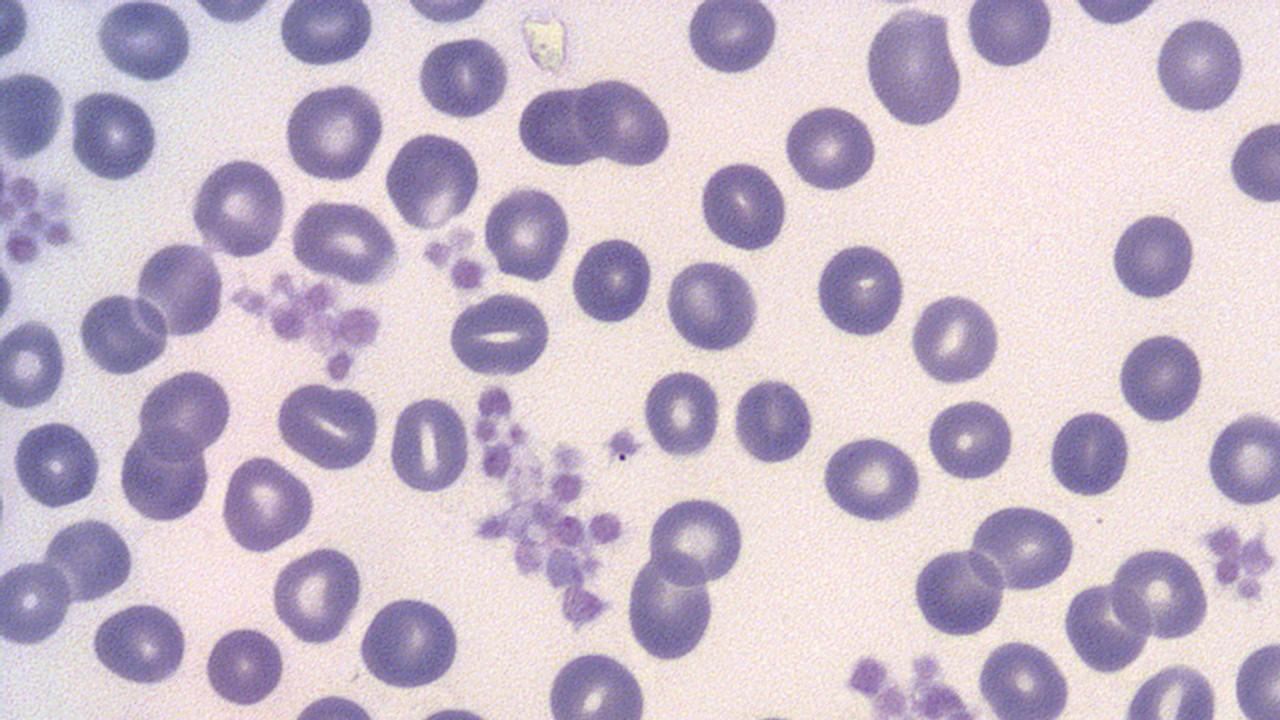Platelets: (1239, 532, 1277, 580), (603, 426, 643, 466), (1200, 520, 1242, 558), (475, 382, 512, 420), (472, 510, 509, 544), (1235, 576, 1267, 604)
RBC: (860, 3, 966, 131), (280, 78, 386, 186), (355, 590, 467, 692), (623, 548, 720, 664), (186, 154, 288, 259), (382, 128, 482, 233), (967, 500, 1079, 593), (271, 380, 383, 473), (1150, 11, 1248, 116), (644, 492, 751, 588), (217, 452, 317, 554), (661, 256, 763, 355), (812, 237, 910, 340), (1106, 546, 1210, 642), (290, 196, 402, 285), (443, 290, 555, 379), (269, 544, 365, 647), (818, 430, 924, 523), (574, 72, 675, 169), (132, 238, 227, 341), (113, 428, 214, 524), (134, 366, 238, 459), (40, 512, 142, 606), (1059, 576, 1153, 678), (480, 181, 571, 286), (909, 544, 1008, 640), (1112, 327, 1208, 425), (87, 597, 192, 686), (907, 290, 1004, 386), (694, 156, 790, 253), (780, 100, 880, 193), (412, 32, 513, 124), (67, 88, 162, 185), (1106, 205, 1198, 304), (1044, 403, 1136, 500), (8, 418, 105, 508), (386, 392, 471, 494), (728, 371, 818, 466), (92, 2, 195, 85), (75, 288, 172, 376), (568, 232, 656, 328), (923, 394, 1017, 483), (976, 634, 1074, 717), (516, 82, 604, 172), (200, 620, 287, 711), (641, 364, 722, 460), (538, 648, 652, 716), (682, 0, 782, 77), (1204, 407, 1278, 510), (275, 0, 378, 71), (1, 62, 68, 165), (0, 554, 73, 648), (963, 1, 1056, 72), (1, 315, 68, 412), (1120, 658, 1222, 718), (514, 2, 578, 83), (1225, 114, 1279, 210), (1231, 632, 1279, 716), (1060, 0, 1168, 29), (395, 0, 498, 28)
